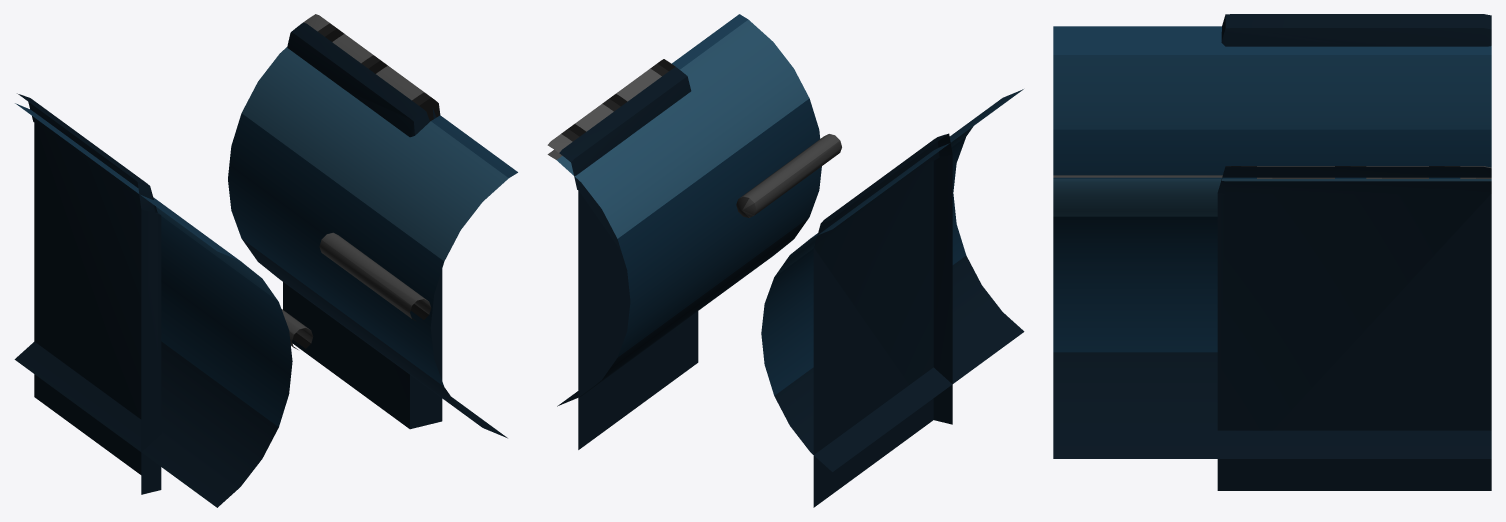
Rendered from camanis_boss_53.glb.
3 views of the same model, side by side, from view 1: azimuth 30°, elevation 25°; view 2: azimuth 150°, elevation 25°; view 3: azimuth 270°, elevation 25° (orthographic). The views are drawn at different scales.
Visible parts, largest first — view 1: camanis_boss_53_tank, camanis_boss_53_tank_plate, camanis_boss_53_tank_plate_m, camanis_boss_53_tank_rail_m, camanis_boss_53_tank_rail; view 2: camanis_boss_53_tank, camanis_boss_53_tank_plate, camanis_boss_53_tank_plate_m, camanis_boss_53_tank_rail_m; view 3: camanis_boss_53_tank, camanis_boss_53_tank_plate_m, camanis_boss_53_tank_plate, camanis_boss_53_tank_rail.
Part boxes in pixels (x1,y1,x2,y2): camanis_boss_53_tank: [14, 47, 517, 507]; camanis_boss_53_tank_plate: [17, 93, 161, 494]; camanis_boss_53_tank_plate_m: [283, 14, 442, 429]; camanis_boss_53_tank_rail_m: [319, 232, 431, 321]; camanis_boss_53_tank_rail: [281, 309, 313, 349]; camanis_boss_53_tank: [547, 14, 1024, 471]; camanis_boss_53_tank_plate: [813, 133, 952, 507]; camanis_boss_53_tank_plate_m: [547, 59, 698, 449]; camanis_boss_53_tank_rail_m: [736, 134, 841, 217]; camanis_boss_53_tank: [1053, 26, 1491, 458]; camanis_boss_53_tank_plate_m: [1217, 166, 1491, 490]; camanis_boss_53_tank_plate: [1221, 14, 1491, 46]; camanis_boss_53_tank_rail: [1053, 175, 1222, 177].
Size of the model in its own units: 23.98 by 24.04 by 27.98.
